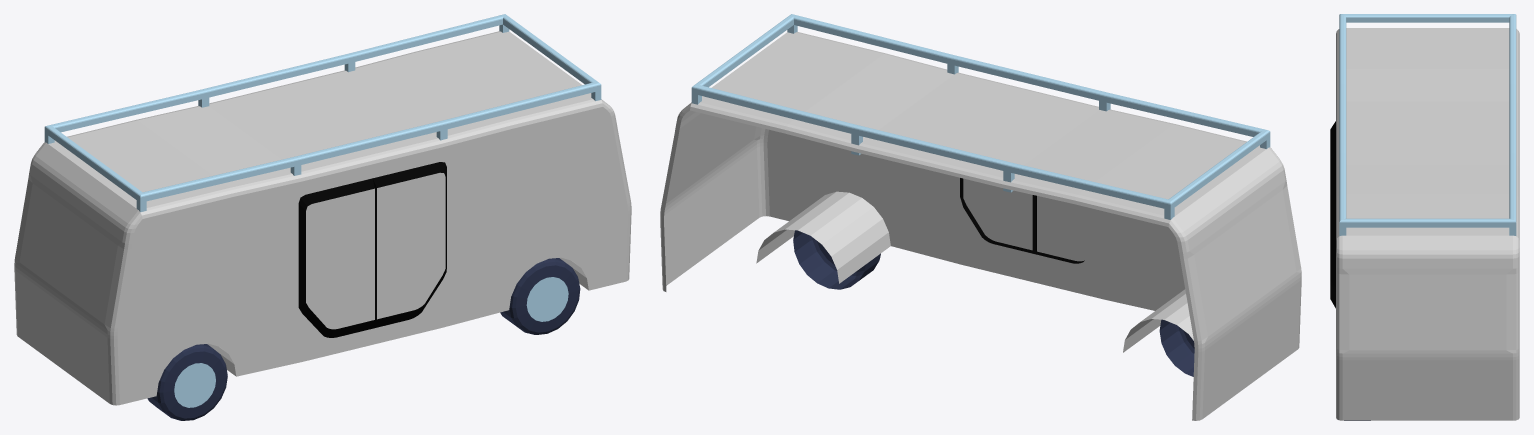
The model's file is Bus.fbx.
The picture shows the model from 3 angles, left to right: view 1: azimuth 30°, elevation 25°; view 2: azimuth 150°, elevation 25°; view 3: azimuth 270°, elevation 25°; orthographic projection. The views are drawn at different scales.
Parts seen in each view (by area): view 1: Body, Cube.004, Cube.003, Cube.001, Cube.005; view 2: Body, Cube.003, Cube.004, Cube.005, Cube.001; view 3: Body, Cube.003.
Part boxes in pixels (x1,y1,x2,y2): Body: [14, 14, 631, 405]; Cube.004: [298, 178, 375, 337]; Cube.003: [373, 162, 446, 328]; Cube.001: [147, 344, 227, 420]; Cube.005: [500, 258, 580, 334]; Body: [660, 14, 1301, 420]; Cube.003: [960, 178, 1035, 253]; Cube.004: [1032, 195, 1105, 263]; Cube.005: [793, 230, 880, 289]; Cube.001: [1159, 319, 1194, 376]; Body: [1336, 14, 1519, 420]; Cube.003: [1330, 152, 1335, 308].
Size of the model in its own units: 984 by 431 by 334.
